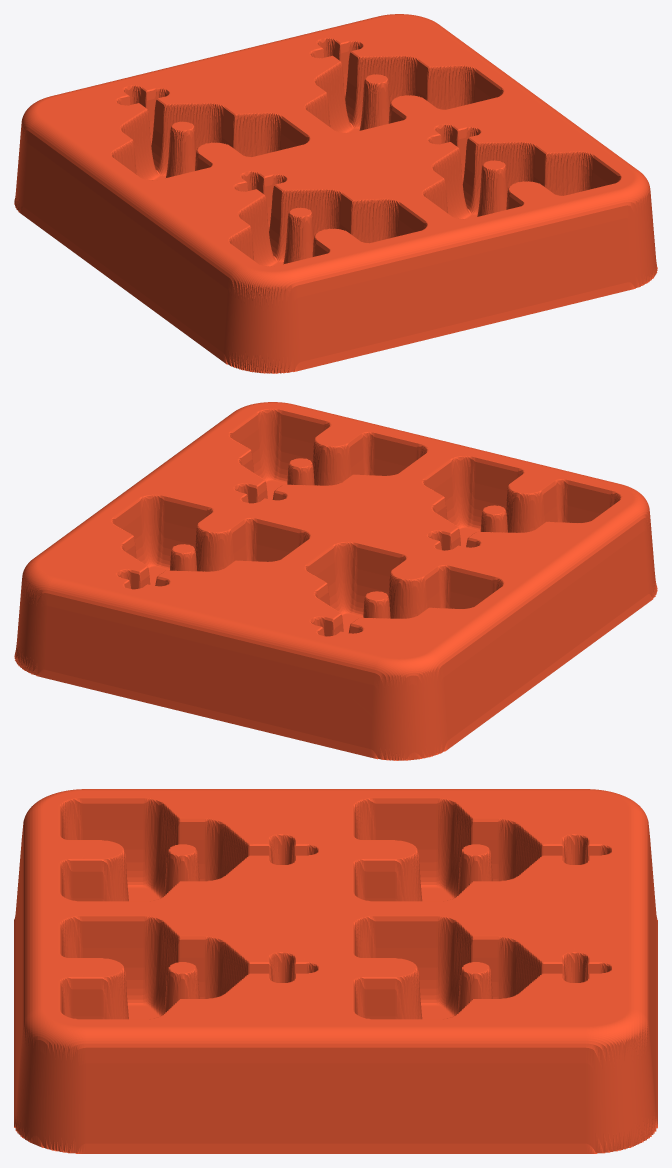
Rendered from mold.glb.
3 renders of one model, top to bottom at view 1: azimuth 30°, elevation 25°; view 2: azimuth 150°, elevation 25°; view 3: azimuth 270°, elevation 25°, orthographic. The views are drawn at different scales.
Parts seen in each view (by area): view 1: geometry_0; view 2: geometry_0; view 3: geometry_0.
Part boxes in pixels (left/top/right/bottom): geometry_0: left=14, top=14, right=657, bottom=373; geometry_0: left=14, top=402, right=657, bottom=760; geometry_0: left=14, top=789, right=657, bottom=1153.
Bounding box in the file's own units: 0.0772 × 0.0159 × 0.0808.
